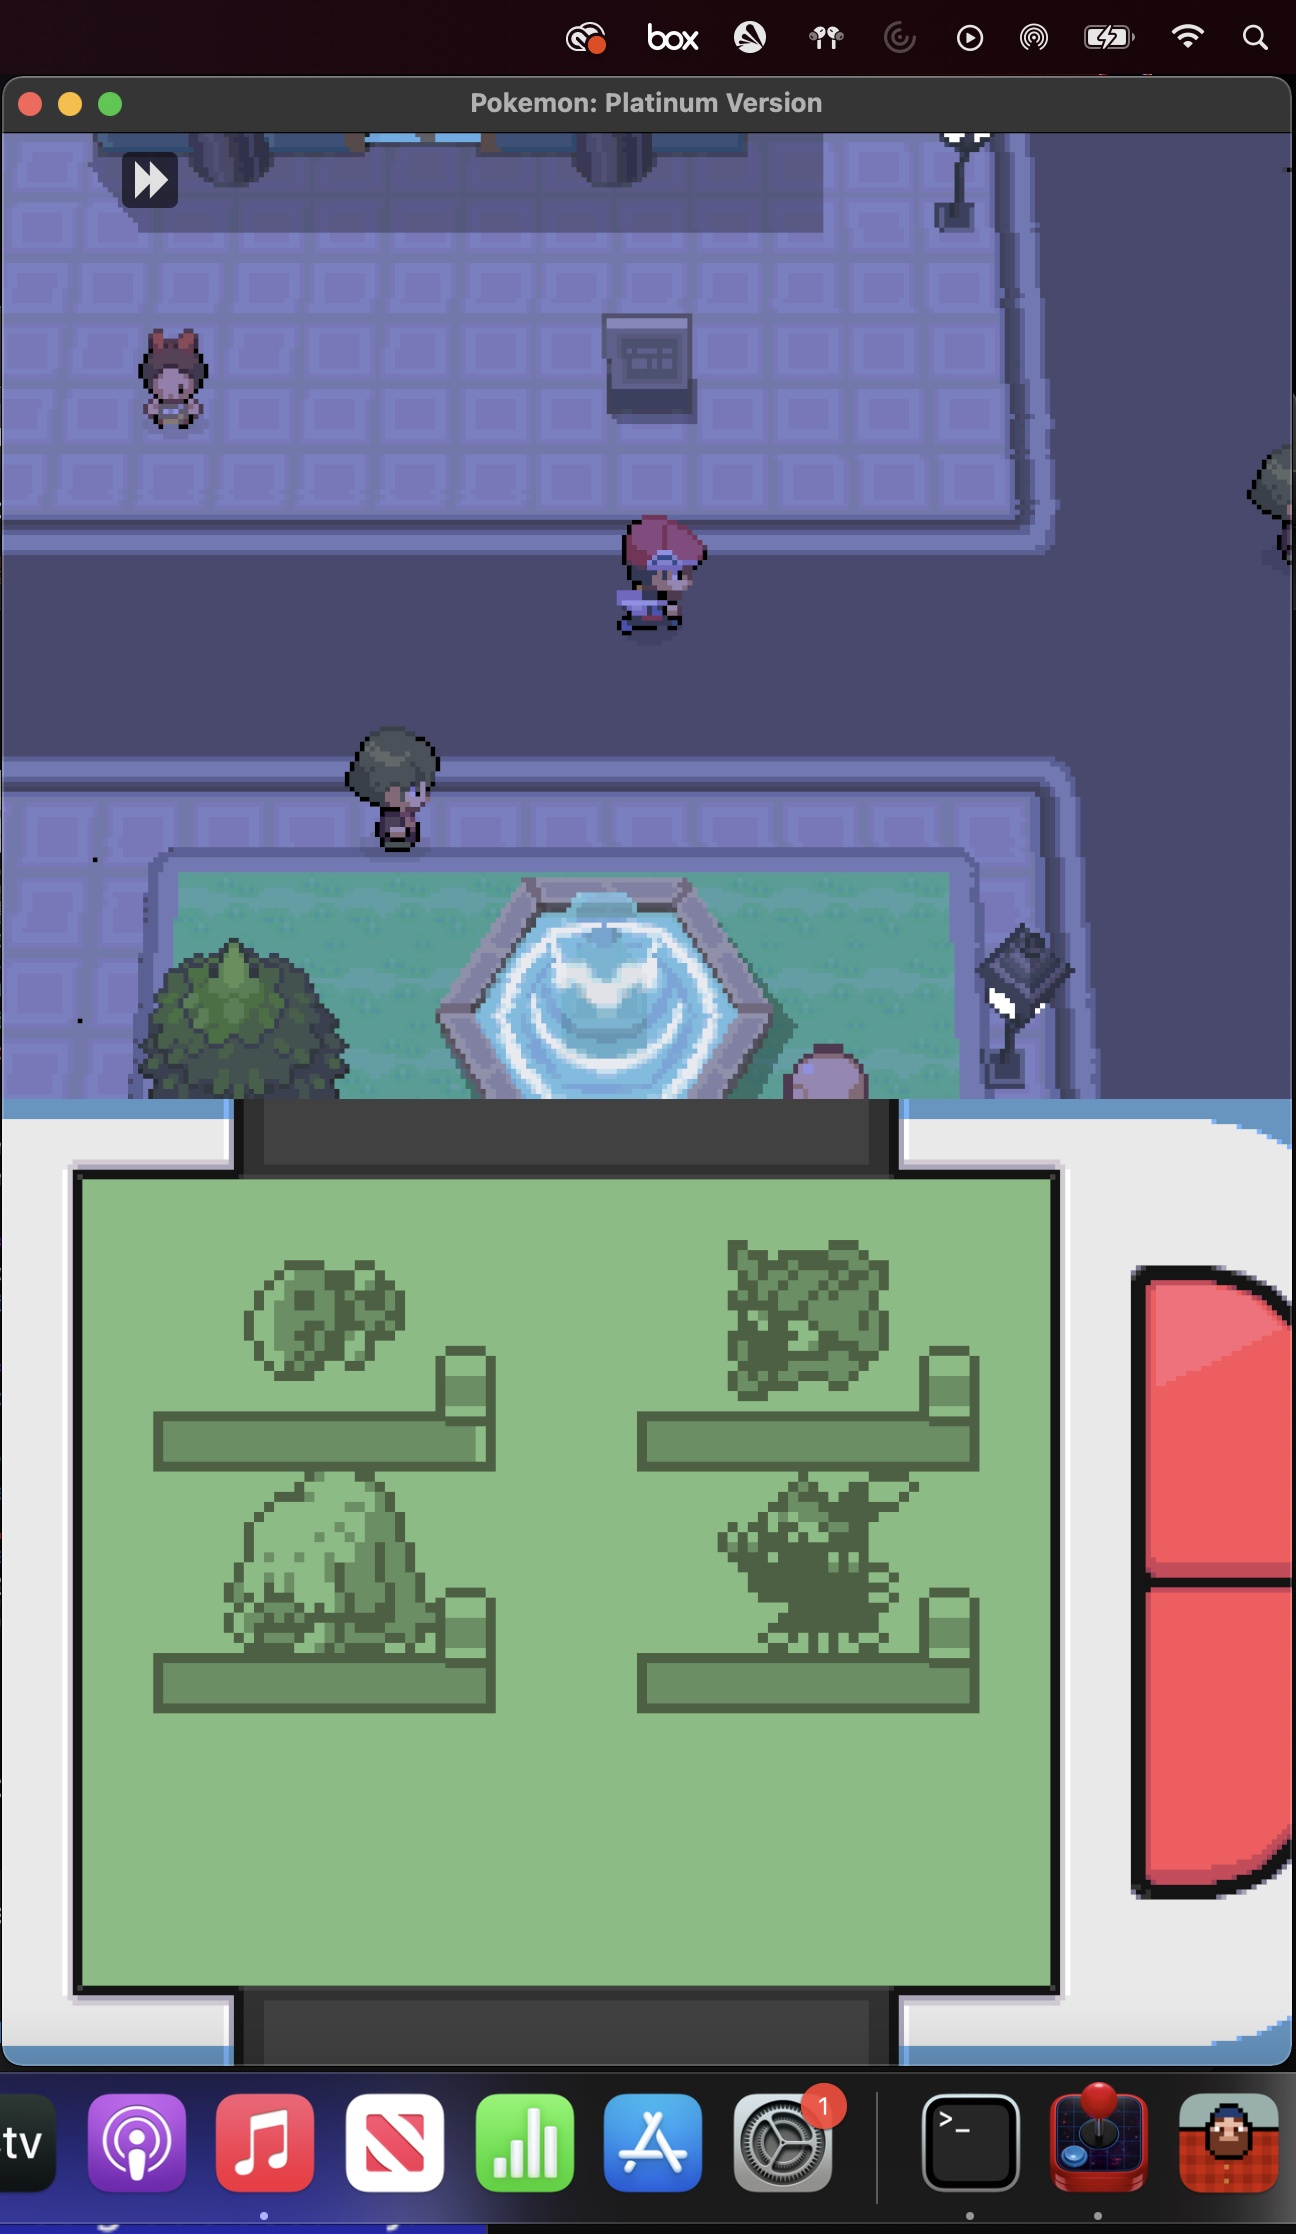player: (606, 505, 714, 643)
